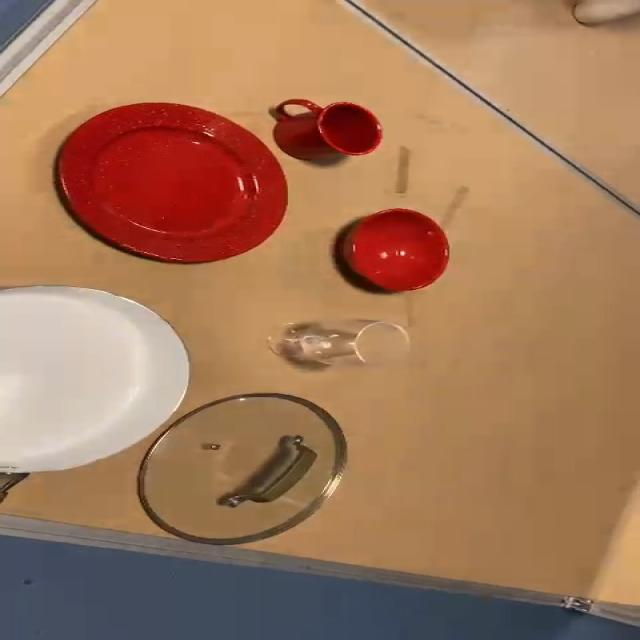Bowl: (332, 208, 455, 294)
Glass: (267, 321, 415, 368)
Plate: (58, 101, 290, 263)
cup: (262, 100, 390, 168)
pot: (7, 288, 193, 504)
